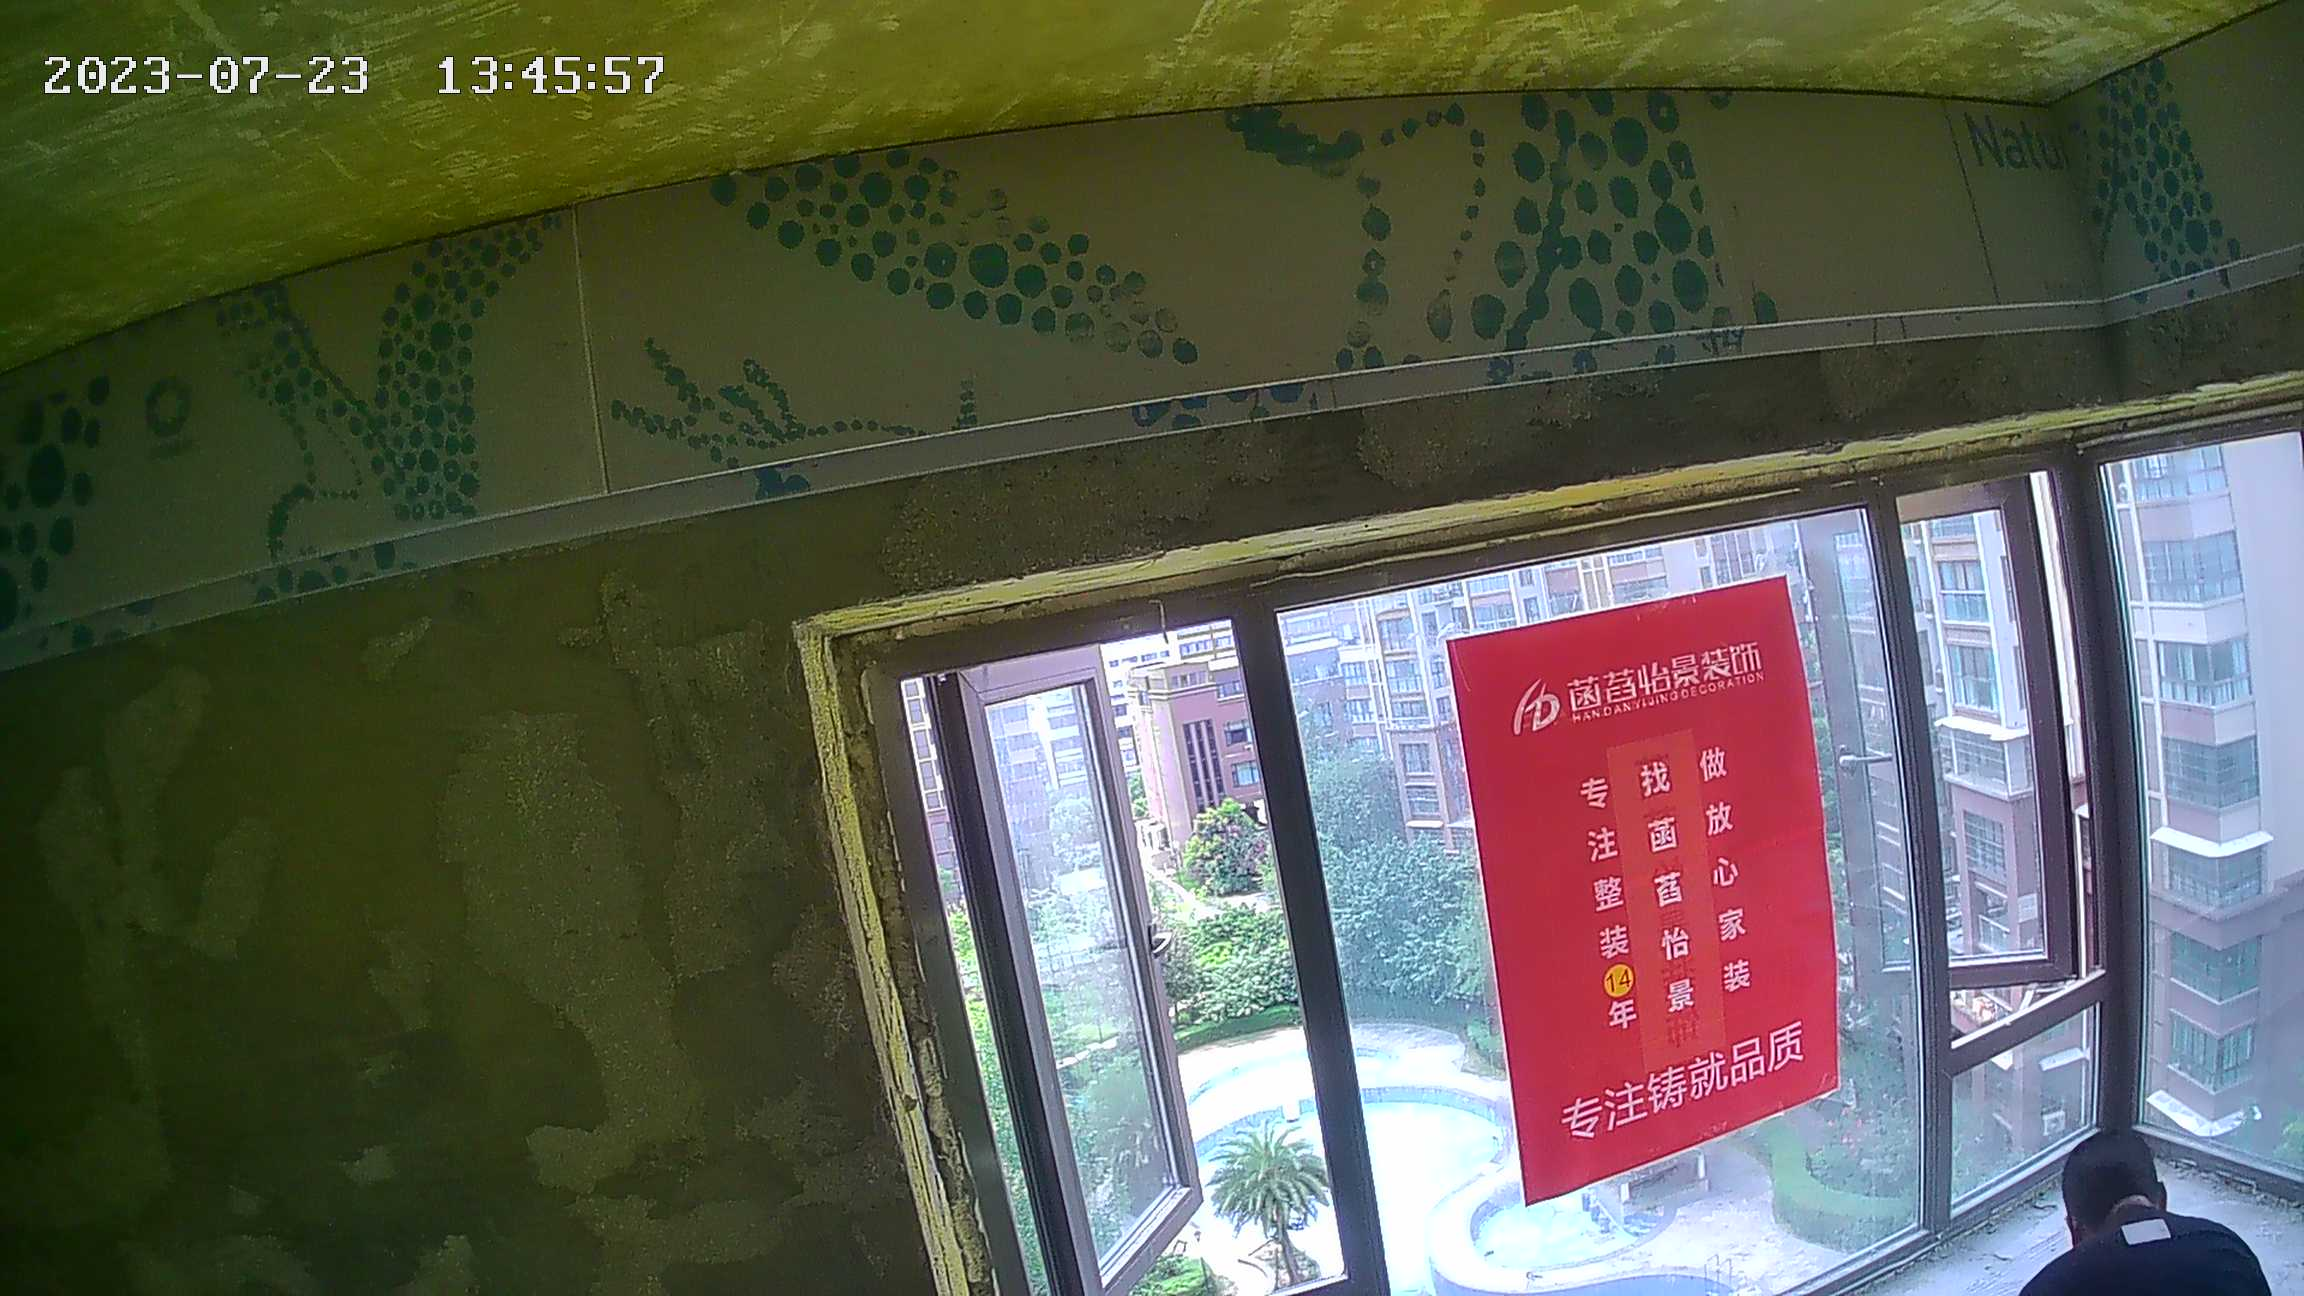people: (1994, 1117, 2273, 1296)
window: (861, 478, 2304, 1284)
